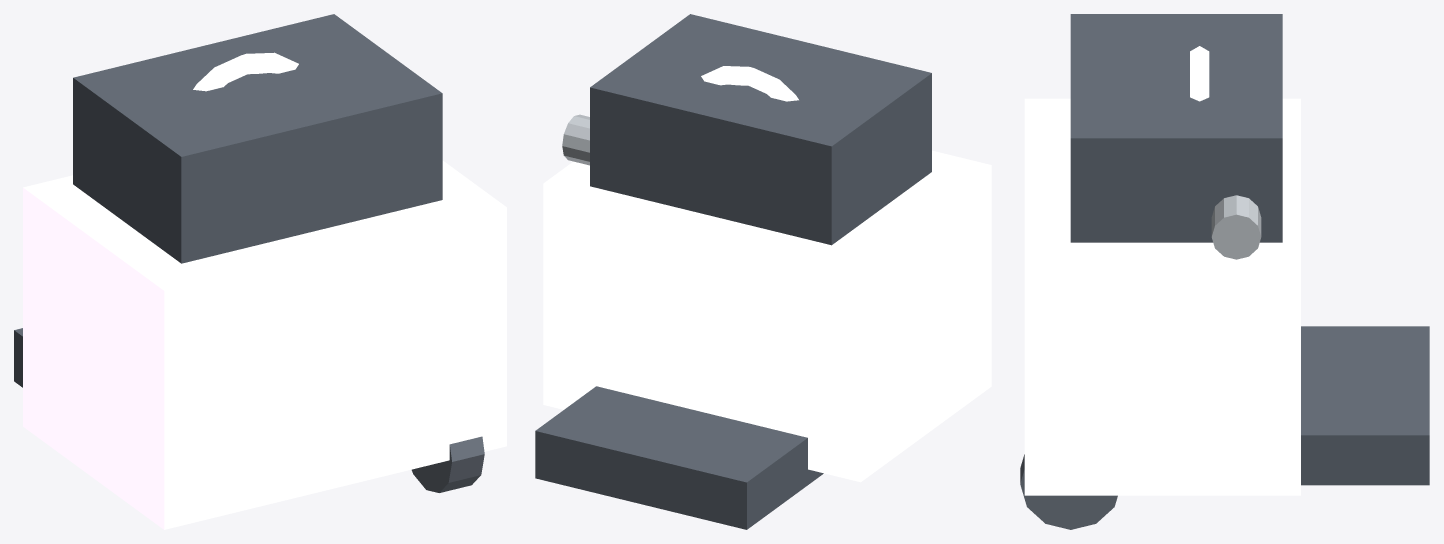
Rendered from trituradora_7.glb.
3 views of the same model, side by side, from view 1: azimuth 30°, elevation 25°; view 2: azimuth 150°, elevation 25°; view 3: azimuth 270°, elevation 25° (orthographic). The views are drawn at different scales.
Parts seen in each view (by area): view 1: chasis, tolva, rueda, portal; view 2: chasis, tolva, cinta, portal, rodillo; view 3: chasis, tolva, cinta, rodillo, panel, rueda, portal.
Boxes of the visible parts, x1,y1,x2,y2 form: chasis: [23, 160, 506, 529]; tolva: [73, 14, 442, 263]; rueda: [411, 436, 484, 492]; portal: [193, 52, 298, 91]; chasis: [543, 150, 991, 482]; tolva: [590, 14, 931, 245]; cinta: [535, 386, 823, 529]; portal: [701, 66, 798, 101]; rodillo: [562, 114, 589, 165]; chasis: [1024, 98, 1300, 495]; tolva: [1070, 14, 1282, 242]; cinta: [1301, 326, 1429, 485]; rodillo: [1211, 195, 1261, 259]; panel: [1075, 304, 1102, 398]; rueda: [1020, 454, 1117, 529]; portal: [1190, 46, 1209, 101].
Bounding box in the file's own units: 0.8316 × 0.9 × 0.8224.
